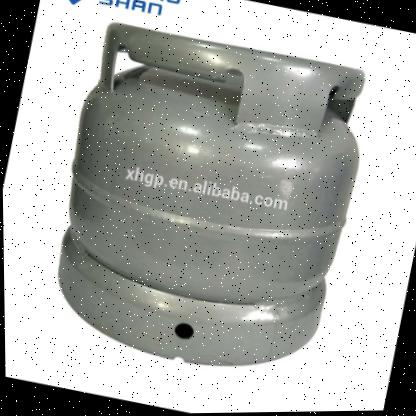gas-tank: (2, 0, 400, 403)
